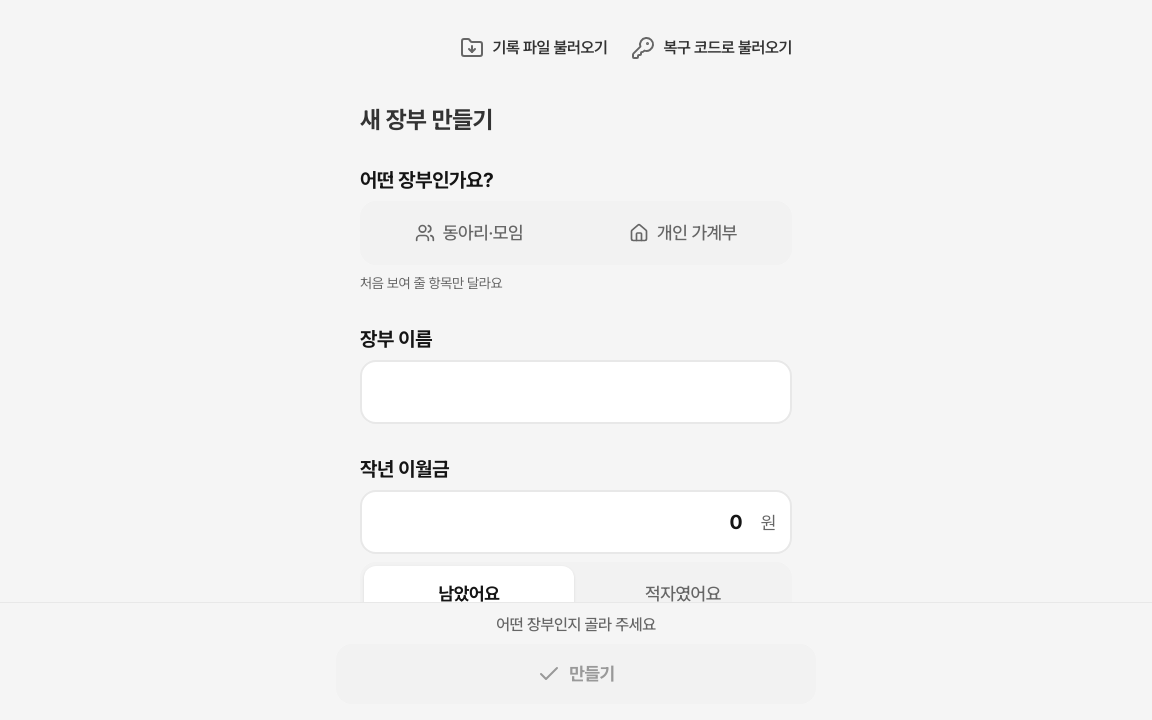
it: SPEC-006 v2.6 용어 바꾸기 (백업 → 기록 파일, 자동 보관 → 자동으로 지키기) › AC-15 첫 실행(서버 있는 빌드)과 복구 코드로 불러오기 화면에 옛 말이 없고, 안내는 "예전 폰 설정 맨 위에 있던 16자예요"
Step 1. Click the button "복구 코드로 불러오기" → click(712, 48), box [620,20,804,76]
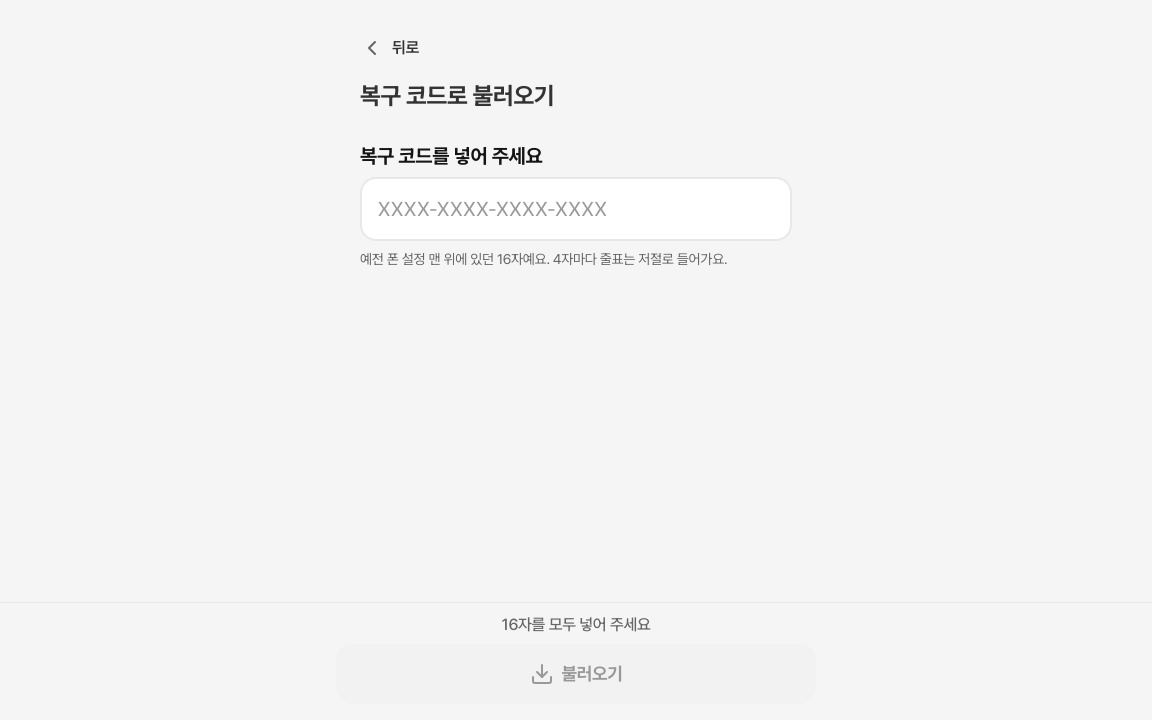
Check: the text "예전 폰 설정 맨 위에 있던 16자예요. 4자마다 줄표는 저절로 들어가요." is shown, box [360,251,727,267]
